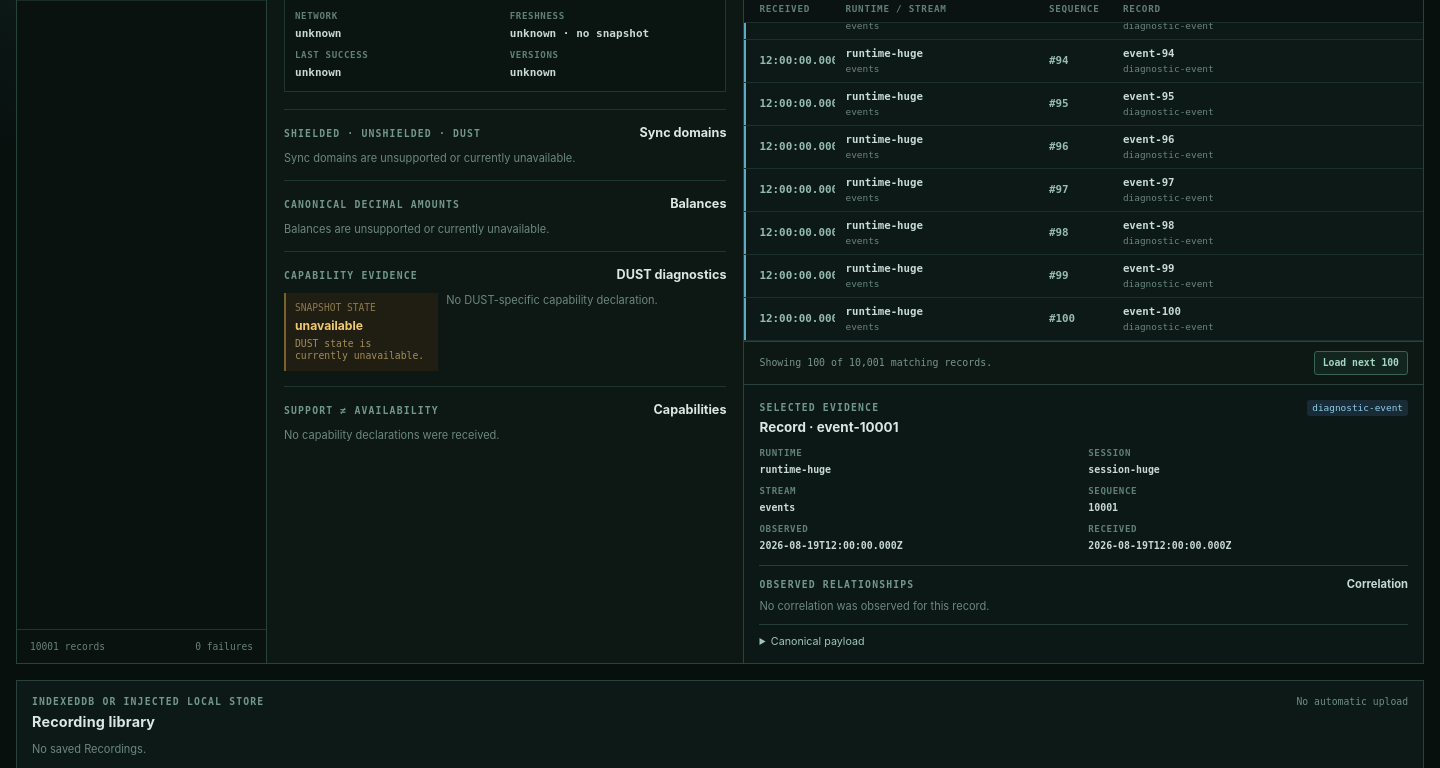
Test case: Overview › bounds ledger rendering for a large timeline and loads the next page on demand
(page scrolled)
Step 1. Click the button "Load next 100" → (1361, 363), box 1314,351 -> 1408,375
(page scrolled)
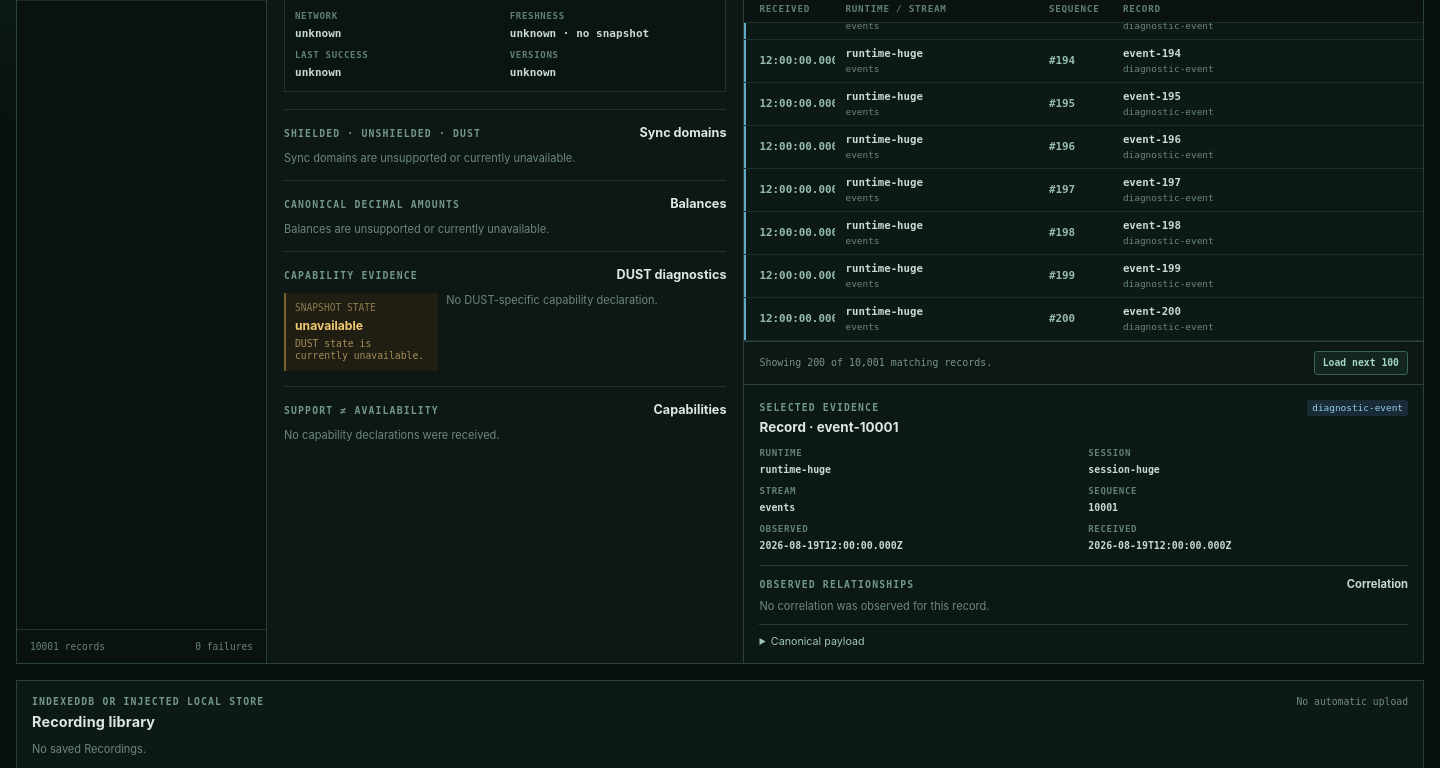
expect the text "Showing 200 of 10,001 matching records." is shown: met, box 760,357 -> 992,370
